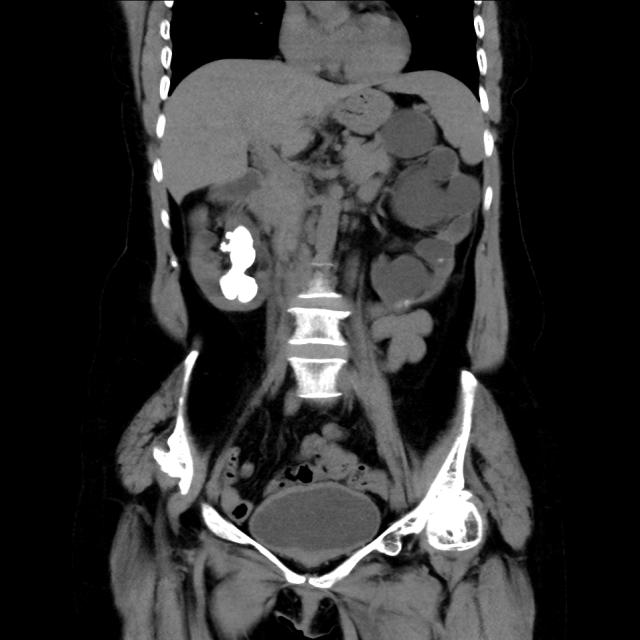kidneystone: (219, 226, 259, 302)
